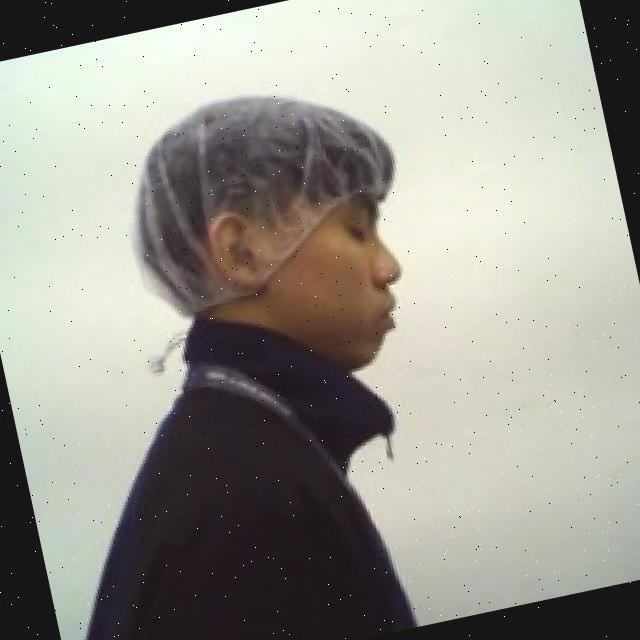gloves: (98, 60, 419, 328)
no_hairnet: (203, 180, 424, 398)
